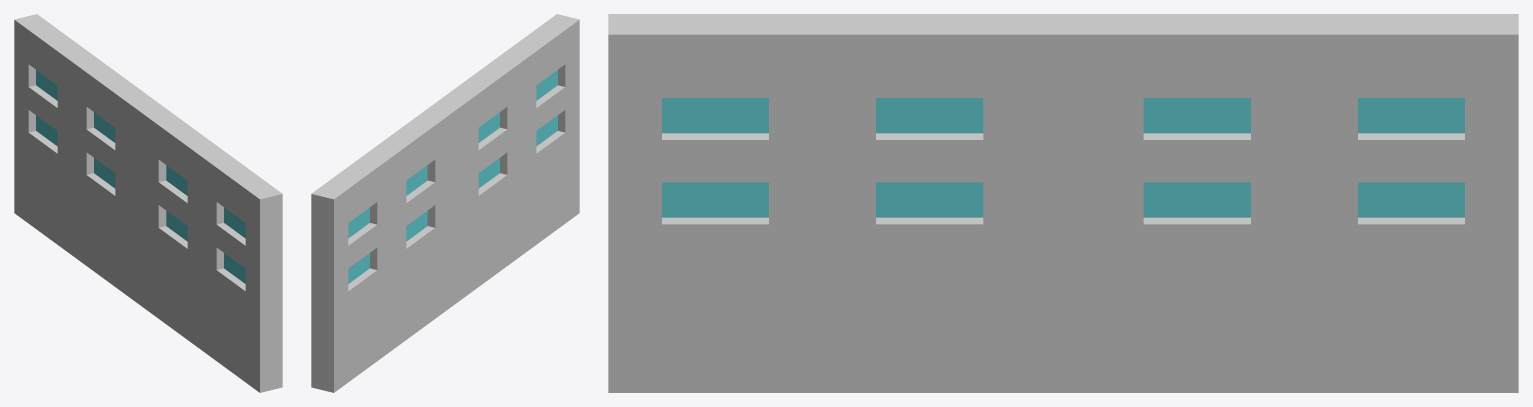
The model's file is SimpleWall.fbx.
3 views of the same model, side by side, from view 1: azimuth 30°, elevation 25°; view 2: azimuth 150°, elevation 25°; view 3: azimuth 270°, elevation 25° (orthographic). The views are drawn at different scales.
Visible parts, largest first — view 1: Cube, Cube.001; view 2: Cube, Cube.001; view 3: Cube, Cube.001.
Boxes of the visible parts, x1,y1,x2,y2 form: Cube: [14, 14, 282, 392]; Cube.001: [36, 70, 245, 283]; Cube: [311, 14, 579, 392]; Cube.001: [348, 70, 557, 283]; Cube: [608, 14, 1518, 392]; Cube.001: [662, 98, 1464, 217].
Bounding box in the file's own units: 200 × 1624 × 3738.
